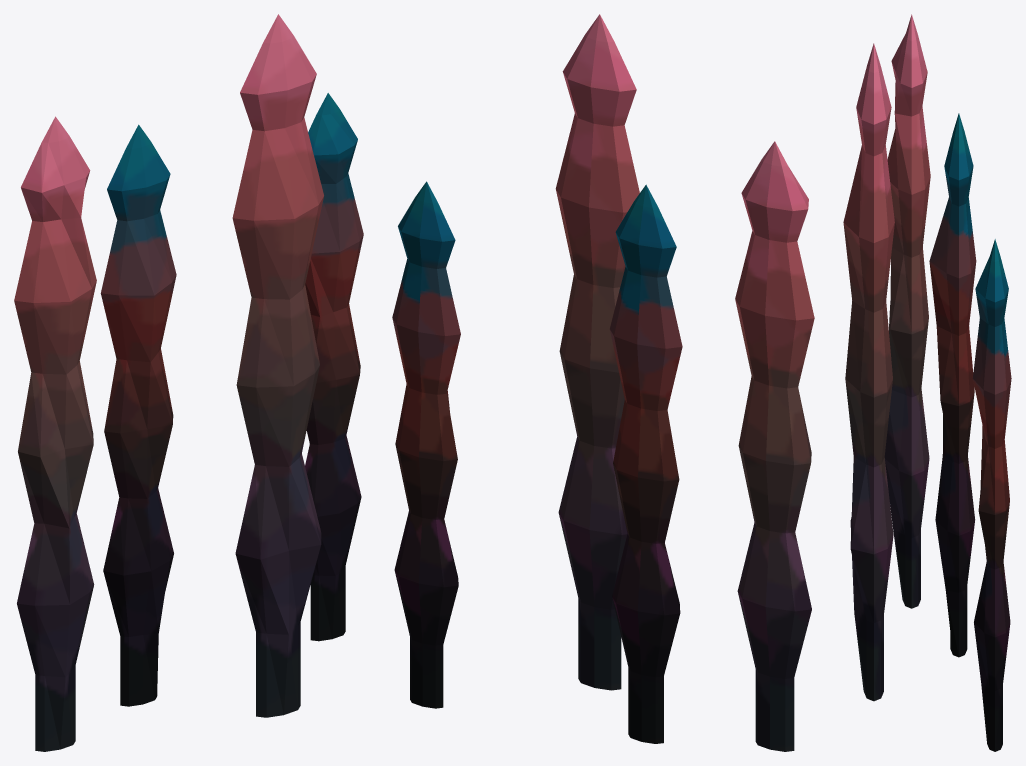
The model's file is alguesCrenelees.fbx.
3 renders of one model, left to right at view 1: azimuth 30°, elevation 25°; view 2: azimuth 150°, elevation 25°; view 3: azimuth 270°, elevation 25°, orthographic. The views are drawn at different scales.
Visible parts, largest first — view 1: polySurface_algueCrenelee1, polySurface_algueCrenelee3, polySurface_algueCrenelee, polySurface_algueCrenelee2; view 2: polySurface_algueCrenelee1, polySurface_algueCrenelee3, polySurface_algueCrenelee, polySurface_algueCrenelee2; view 3: polySurface_algueCrenelee1, polySurface_algueCrenelee3, polySurface_algueCrenelee, polySurface_algueCrenelee2.
Part boxes in pixels (box(x1,y1,x2,y2)): polySurface_algueCrenelee1: box(232, 14, 323, 717); polySurface_algueCrenelee3: box(14, 116, 96, 751); polySurface_algueCrenelee: box(100, 124, 176, 706); polySurface_algueCrenelee2: box(305, 93, 363, 641); polySurface_algueCrenelee1: box(555, 14, 639, 690); polySurface_algueCrenelee3: box(735, 141, 814, 751); polySurface_algueCrenelee: box(609, 184, 682, 743); polySurface_algueCrenelee2: box(392, 181, 460, 708); polySurface_algueCrenelee1: box(843, 43, 894, 701); polySurface_algueCrenelee3: box(884, 14, 930, 608); polySurface_algueCrenelee: box(929, 113, 976, 657); polySurface_algueCrenelee2: box(972, 239, 1011, 751).
Size of the model in its own units: 3.94 by 6.66 by 1.56.
